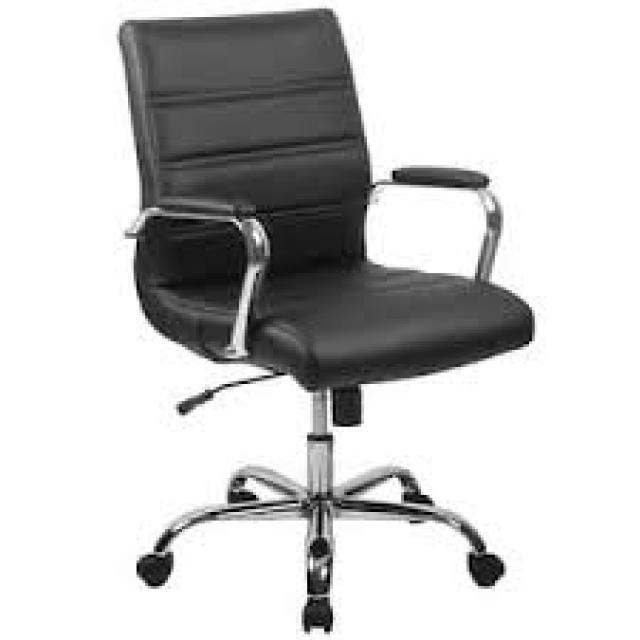chair: (62, 5, 640, 640)
